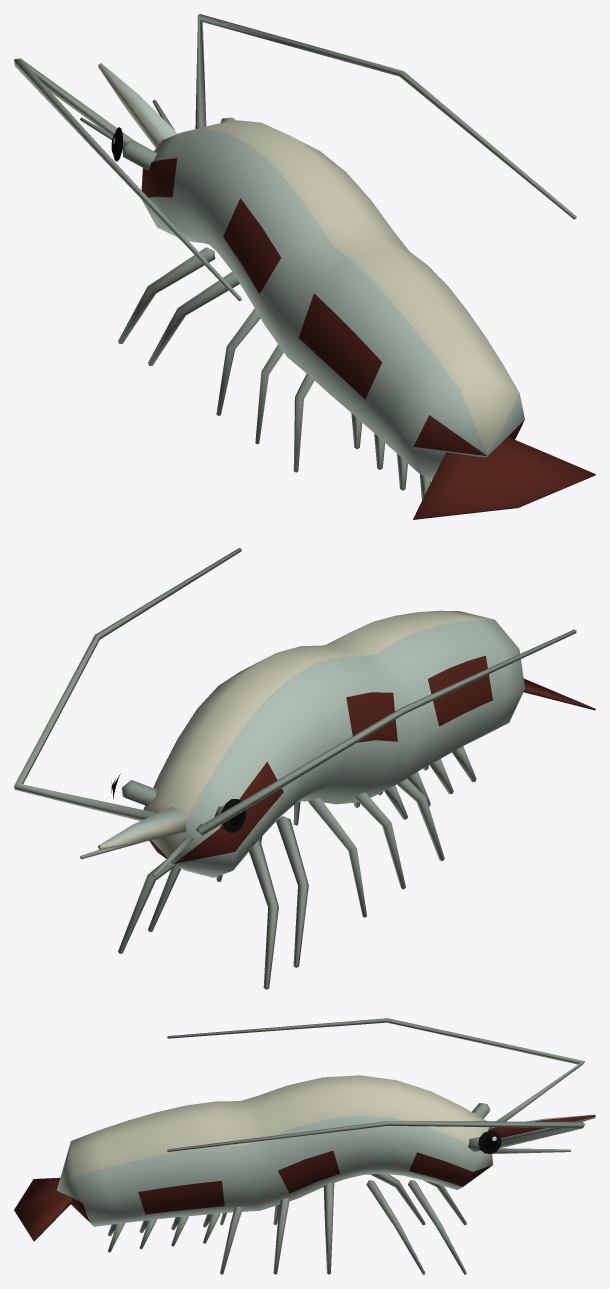
The model's file is amano_shrimp.glb.
The picture shows the model from 3 angles, top to bottom: view 1: azimuth 30°, elevation 25°; view 2: azimuth 150°, elevation 25°; view 3: azimuth 270°, elevation 25°; orthographic projection. The views are drawn at different scales.
Visible parts, largest first — view 1: amano_shrimp; view 2: amano_shrimp; view 3: amano_shrimp.
Part boxes in pixels (x1,y1,x2,y2): amano_shrimp: (14,14,595,519); amano_shrimp: (14,548,595,989); amano_shrimp: (14,1018,595,1274).
Size of the model in its own units: 1.11 by 0.8124 by 2.39.
